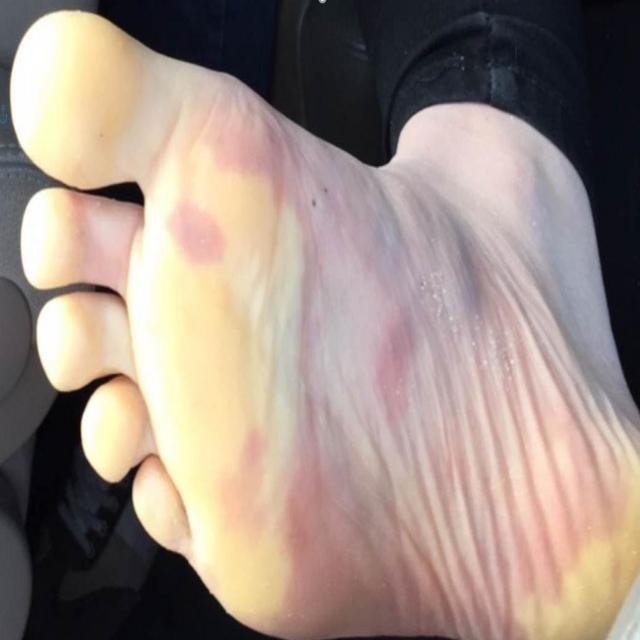raynauds: (2, 12, 314, 607)
